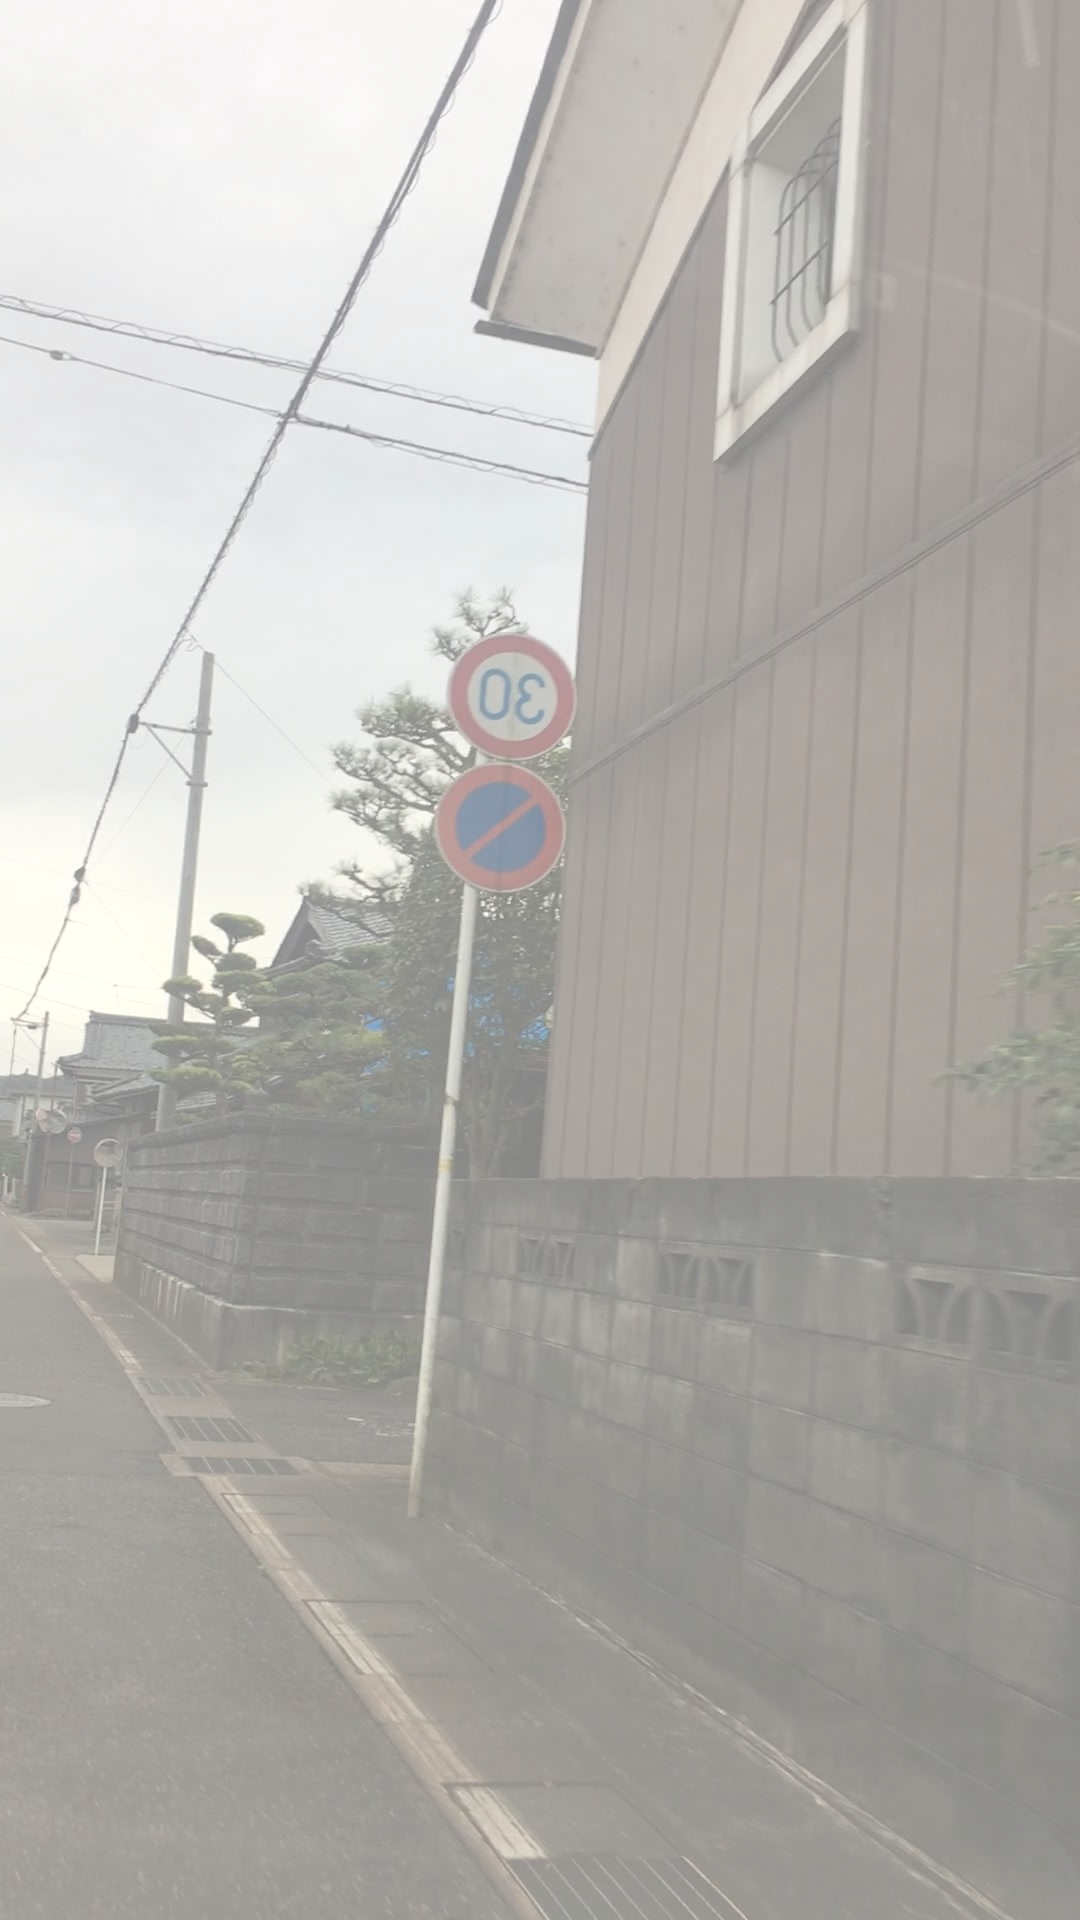Prohibition_sign: (444, 770, 580, 916)
Speed_sign: (433, 626, 588, 770)
